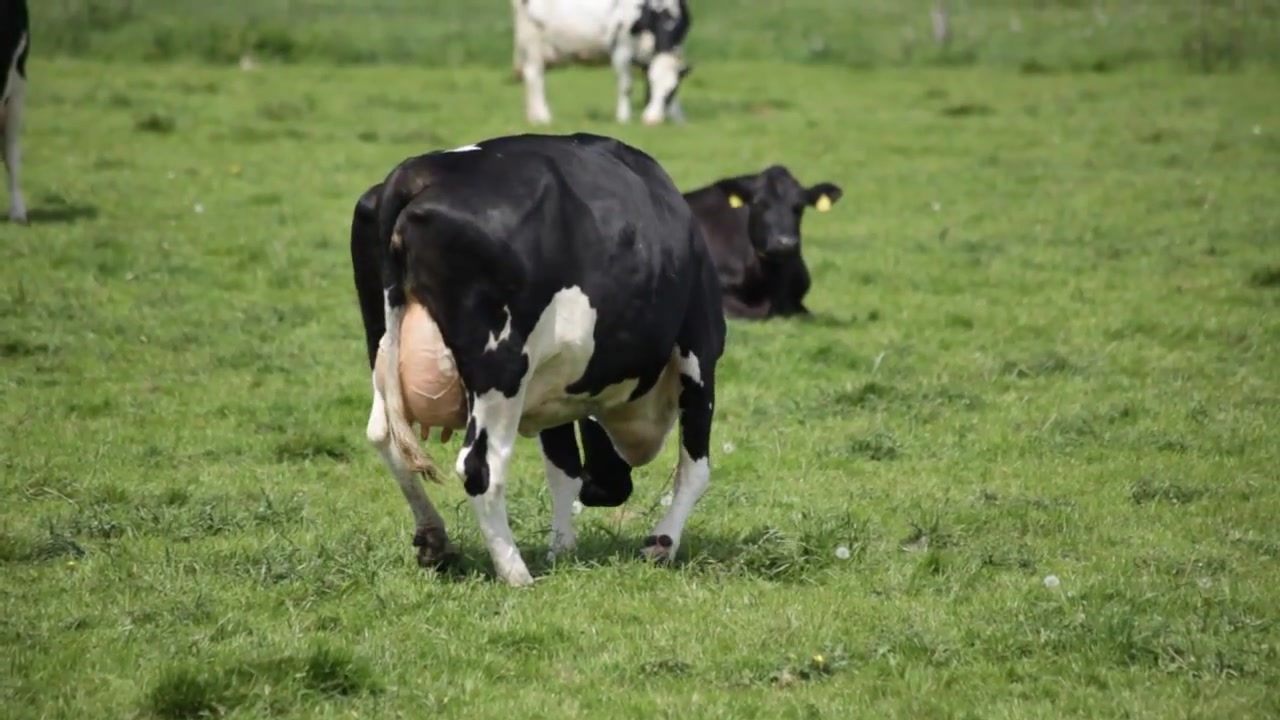cow: (345, 131, 731, 589)
